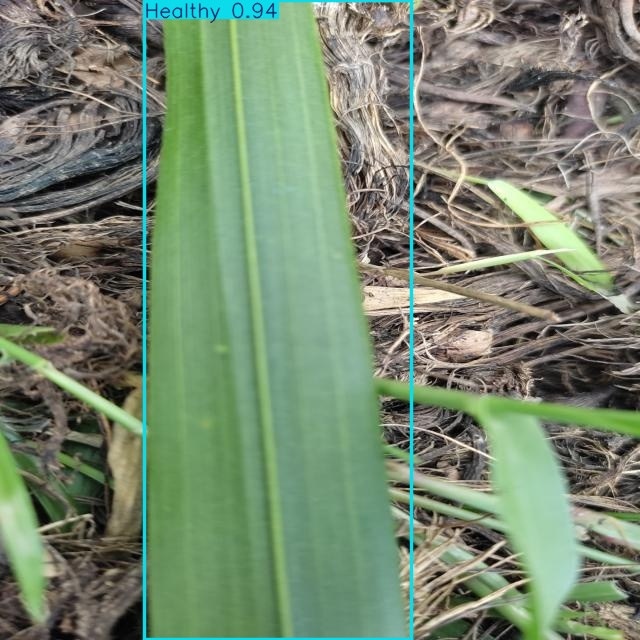Healthy: (145, 0, 411, 640)
